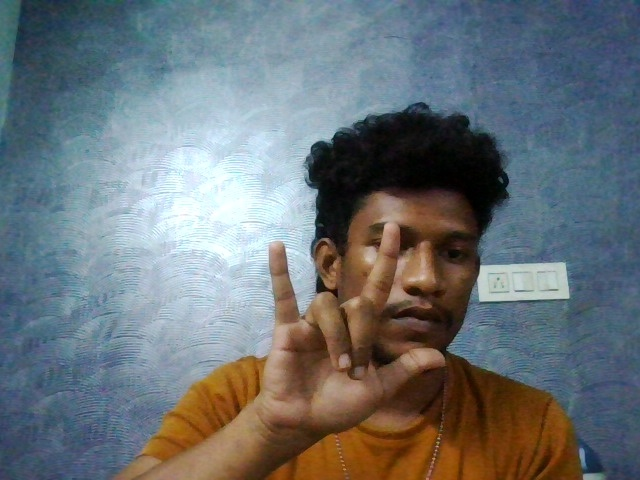i love you: (227, 211, 463, 453)
